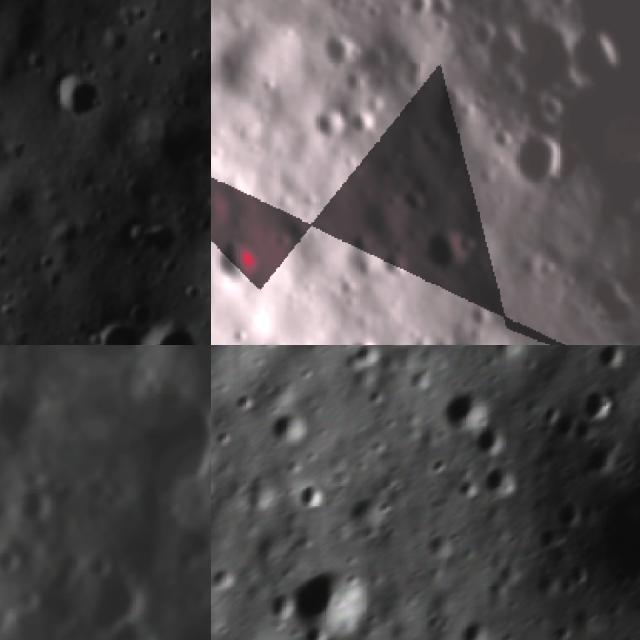crater: (95, 383, 211, 517), (485, 0, 600, 112), (569, 480, 640, 614), (284, 569, 385, 640), (552, 10, 634, 95), (502, 121, 581, 199), (77, 558, 151, 640), (414, 213, 479, 281), (211, 223, 272, 294), (438, 375, 495, 438), (299, 94, 356, 153), (50, 69, 106, 125), (413, 315, 516, 345), (6, 474, 61, 530), (420, 69, 474, 124), (310, 19, 364, 72), (454, 289, 504, 341), (264, 408, 318, 453), (339, 96, 387, 142), (457, 10, 503, 56), (128, 218, 178, 259), (579, 386, 619, 430), (143, 316, 200, 345), (483, 463, 521, 504), (475, 421, 510, 464), (120, 178, 158, 216), (395, 180, 432, 219), (588, 345, 634, 376), (395, 0, 444, 28), (293, 480, 329, 518), (0, 534, 32, 575), (345, 345, 382, 379), (91, 321, 143, 345), (126, 298, 160, 334), (339, 321, 387, 345), (418, 0, 464, 25), (455, 614, 495, 640), (536, 89, 567, 122), (211, 566, 243, 594), (534, 0, 578, 17), (296, 336, 359, 345)
